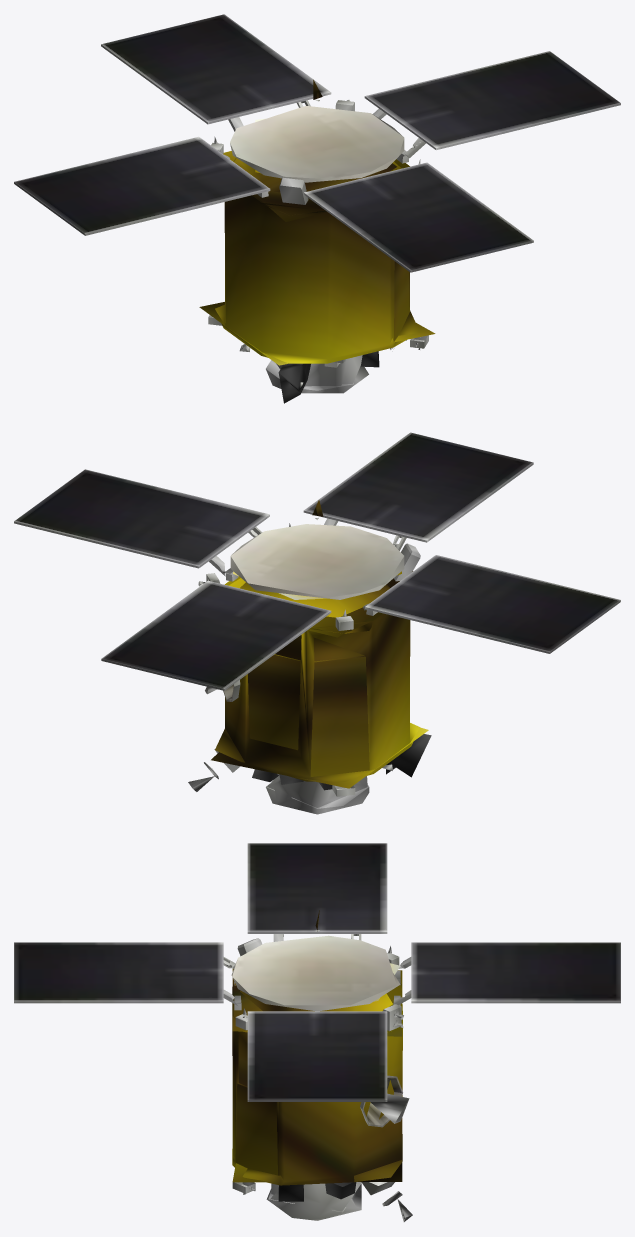
Rendered from space-near.glb.
3 views of the same model, one above another, from view 1: azimuth 30°, elevation 25°; view 2: azimuth 150°, elevation 25°; view 3: azimuth 270°, elevation 25° (orthographic).
Parts seen in each view (by area): view 1: tex_01, foil_gold, foil_silver; view 2: tex_01, foil_gold, foil_silver; view 3: tex_01, foil_gold, foil_silver.
Part boxes in pixels (bbox=[...]): tex_01: bbox=[14, 14, 620, 393]; foil_gold: bbox=[199, 79, 435, 365]; foil_silver: bbox=[278, 340, 406, 403]; tex_01: bbox=[14, 432, 620, 814]; foil_gold: bbox=[211, 500, 428, 788]; foil_silver: bbox=[252, 734, 431, 790]; tex_01: bbox=[14, 843, 620, 1221]; foil_gold: bbox=[232, 910, 402, 1185]; foil_silver: bbox=[278, 1182, 356, 1201].
Bounding box in the file's own units: 5.29 × 2.78 × 5.29.
Materials: 3 (3 with a texture image).
